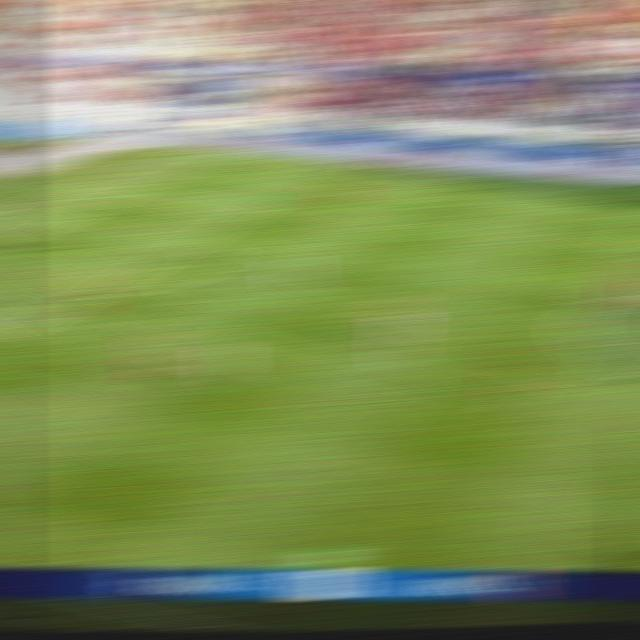bigarea_top_inner: (250, 196, 282, 208)
bigarea_top_outter: (73, 179, 103, 185)
bottom_arc_area_intersection: (66, 289, 108, 304)
corner: (149, 152, 181, 157)
smallarea_top_inner: (50, 213, 83, 223)
smallarea_top_outter: (0, 203, 26, 216)
top_arc_area_intersection: (182, 232, 213, 242)
